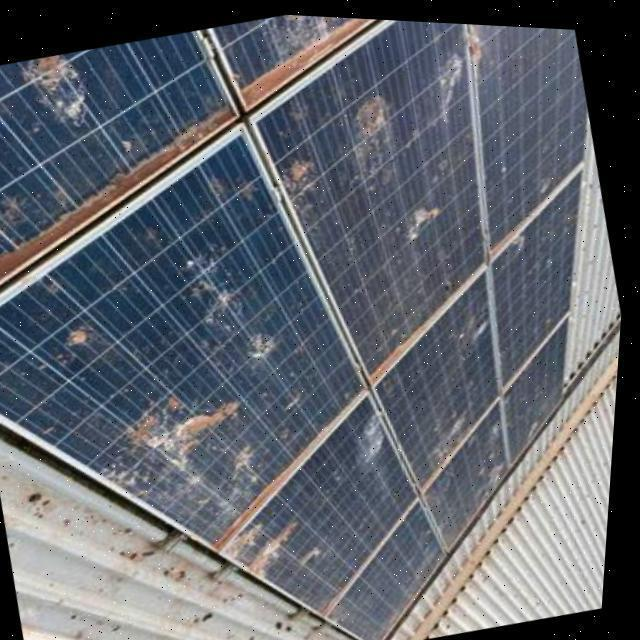Anomaly Solar Panel: (0, 127, 373, 546), (236, 15, 594, 373), (0, 28, 236, 288), (227, 379, 452, 620), (350, 258, 558, 481), (456, 19, 609, 242), (487, 160, 582, 382), (337, 495, 467, 640), (414, 395, 539, 542), (482, 311, 607, 454)
Surface Contaminant: (0, 97, 234, 278), (91, 348, 259, 507), (170, 225, 296, 386), (164, 408, 294, 545), (239, 14, 372, 105), (14, 50, 119, 137), (232, 492, 311, 575), (257, 12, 349, 60), (351, 86, 397, 179), (54, 316, 120, 379), (351, 403, 412, 470), (424, 392, 485, 450), (394, 185, 450, 242), (282, 147, 332, 210), (447, 301, 502, 356), (431, 46, 476, 111), (452, 18, 506, 70)
